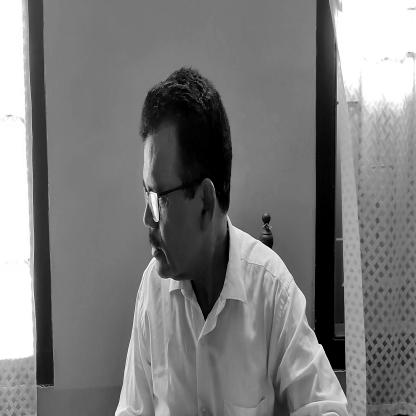Distracted: (138, 80, 234, 279)
